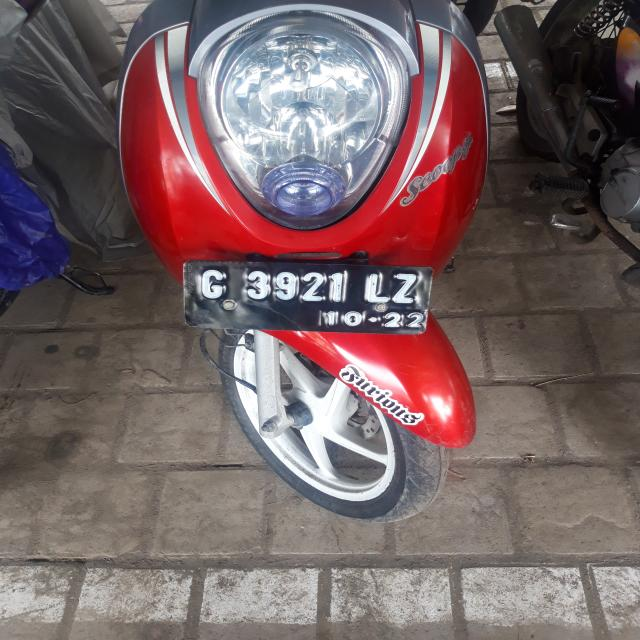plate: (180, 259, 430, 334)
